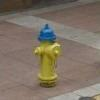a fire hydrant: (34, 24, 61, 87)
